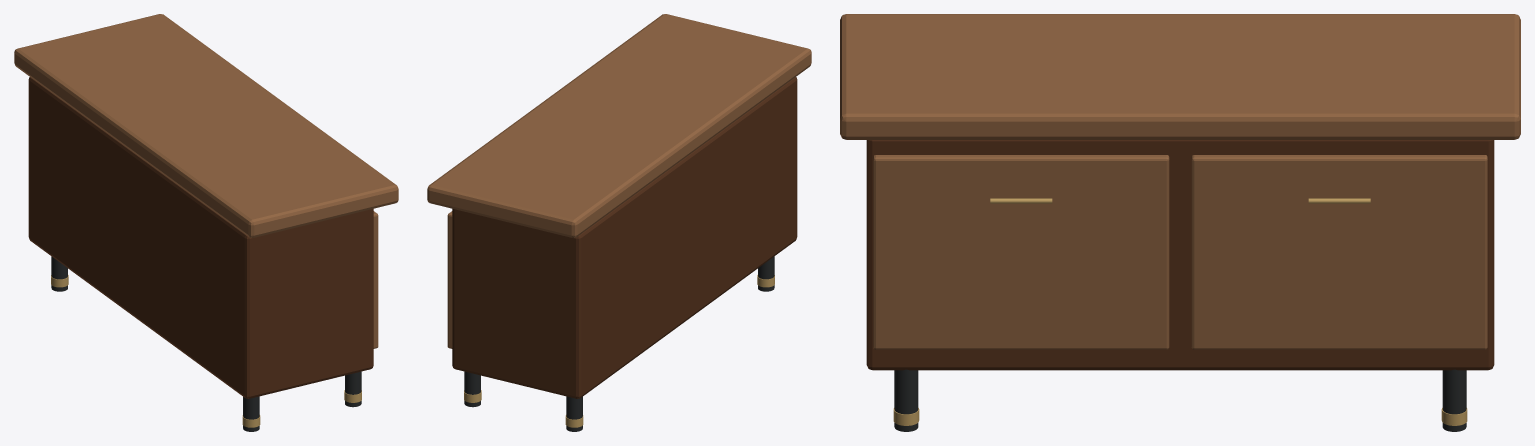
The model's file is listening-console.glb.
3 renders of one model, left to right at view 1: azimuth 30°, elevation 25°; view 2: azimuth 150°, elevation 25°; view 3: azimuth 270°, elevation 25°, orthographic. The views are drawn at different scales.
Parts seen in each view (by area): view 1: part::listening-console/inset-cabinet-001, part::listening-console/floating-solid-walnut-top-001, part::listening-console/raised-walnut-door-002, part::listening-console/isolation-foot-003, part::listening-console/isolation-foot-004, part::listening-console/isolation-foot-001; view 2: part::listening-console/inset-cabinet-001, part::listening-console/floating-solid-walnut-top-001, part::listening-console/raised-walnut-door-001, part::listening-console/isolation-foot-001, part::listening-console/isolation-foot-002, part::listening-console/isolation-foot-003; view 3: part::listening-console/floating-solid-walnut-top-001, part::listening-console/raised-walnut-door-001, part::listening-console/raised-walnut-door-002, part::listening-console/inset-cabinet-001, part::listening-console/isolation-foot-002, part::listening-console/isolation-foot-004.
Part boxes in pixels (x1,y1,x2,y2): part::listening-console/inset-cabinet-001: (28, 77, 373, 398); part::listening-console/floating-solid-walnut-top-001: (14, 14, 398, 237); part::listening-console/raised-walnut-door-002: (373, 211, 378, 348); part::listening-console/isolation-foot-003: (243, 396, 259, 431); part::listening-console/isolation-foot-004: (345, 371, 361, 407); part::listening-console/isolation-foot-001: (51, 256, 67, 291); part::listening-console/inset-cabinet-001: (452, 77, 797, 398); part::listening-console/floating-solid-walnut-top-001: (427, 14, 811, 237); part::listening-console/raised-walnut-door-001: (447, 211, 452, 348); part::listening-console/isolation-foot-001: (566, 396, 582, 431); part::listening-console/isolation-foot-002: (464, 371, 480, 407); part::listening-console/isolation-foot-003: (758, 256, 774, 291); part::listening-console/floating-solid-walnut-top-001: (840, 14, 1520, 139); part::listening-console/raised-walnut-door-001: (1191, 155, 1487, 349); part::listening-console/raised-walnut-door-002: (873, 155, 1169, 349); part::listening-console/inset-cabinet-001: (866, 140, 1494, 370); part::listening-console/isolation-foot-002: (1442, 369, 1466, 431); part::listening-console/isolation-foot-004: (894, 369, 918, 431).
Bounding box in the file's own units: 0.56 × 0.8175 × 1.54.
